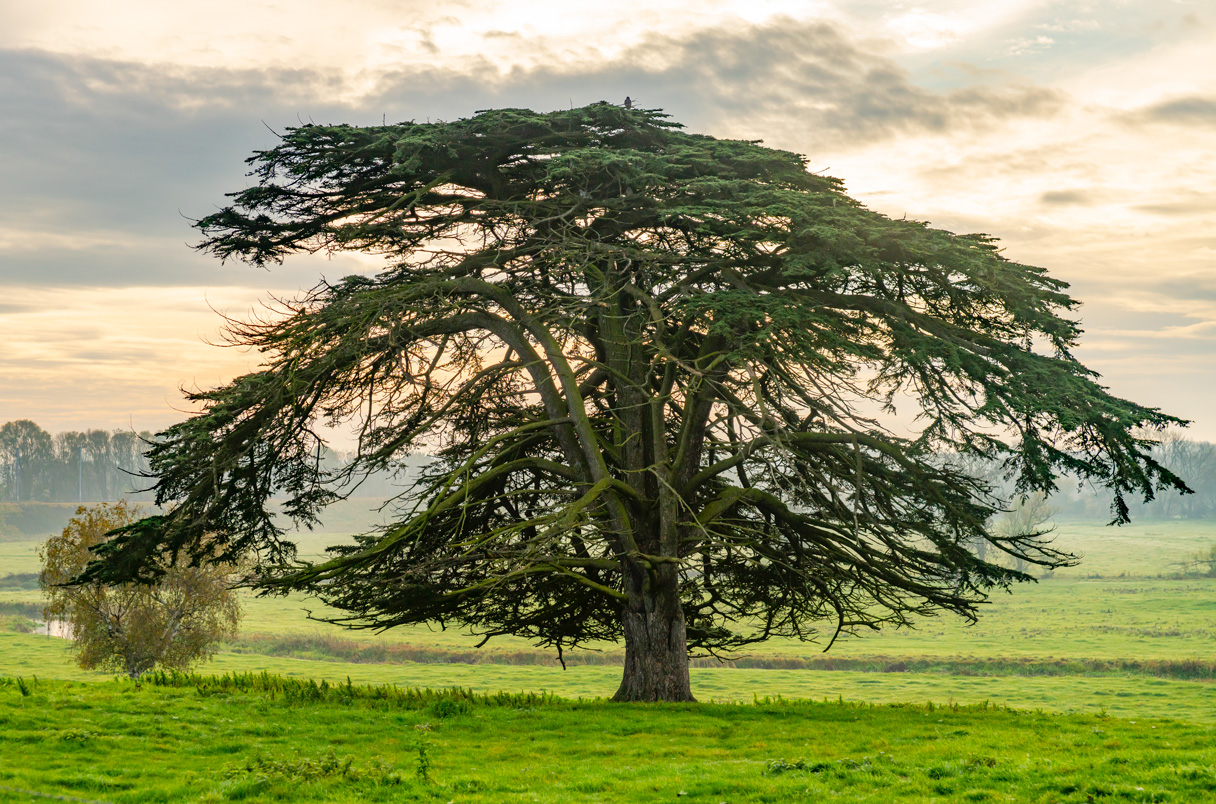grass: (4, 661, 1214, 798), (712, 577, 1211, 661)
tree: (597, 503, 694, 699)
